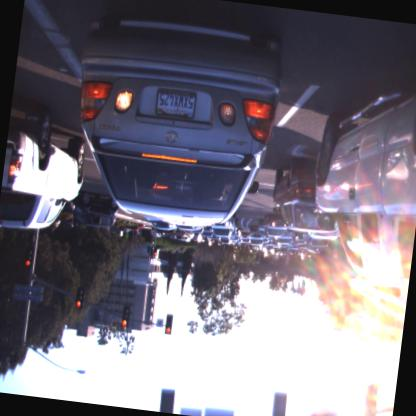trafficlight: (163, 311, 174, 337), (74, 286, 84, 309), (24, 245, 34, 268), (120, 306, 129, 326)
